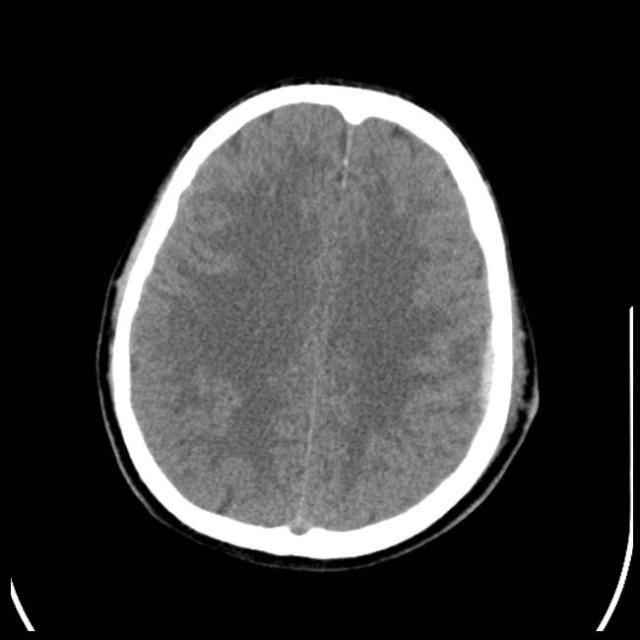lesion: (98, 79, 538, 565)
